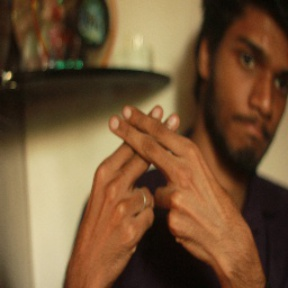F: (81, 87, 222, 209)
